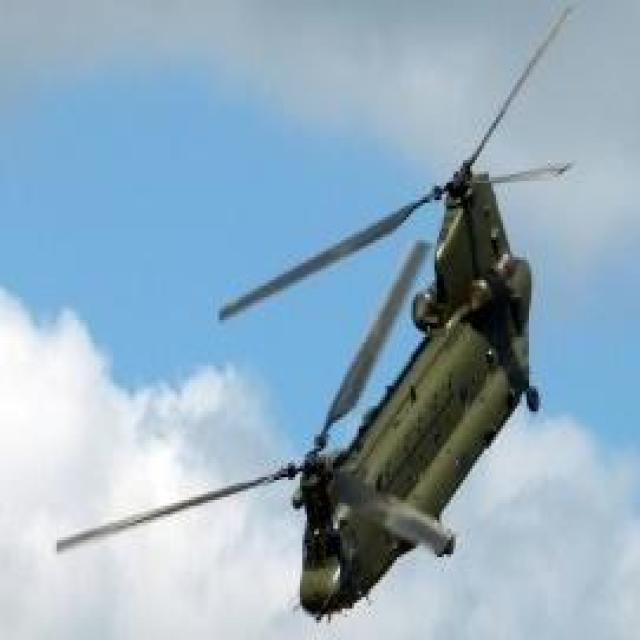Helicopter: (252, 156, 572, 618)
